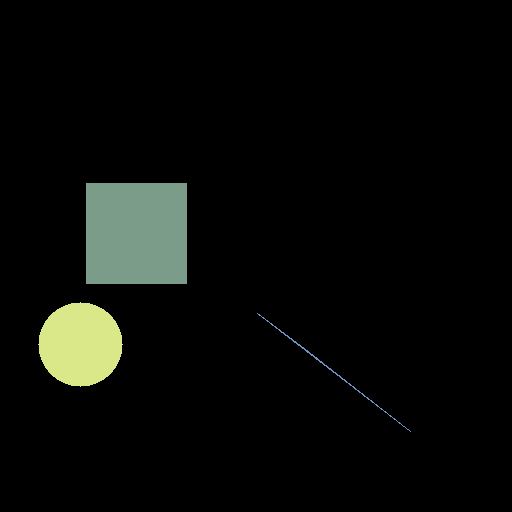circle: (38, 302, 122, 386)
square: (86, 183, 186, 283)
